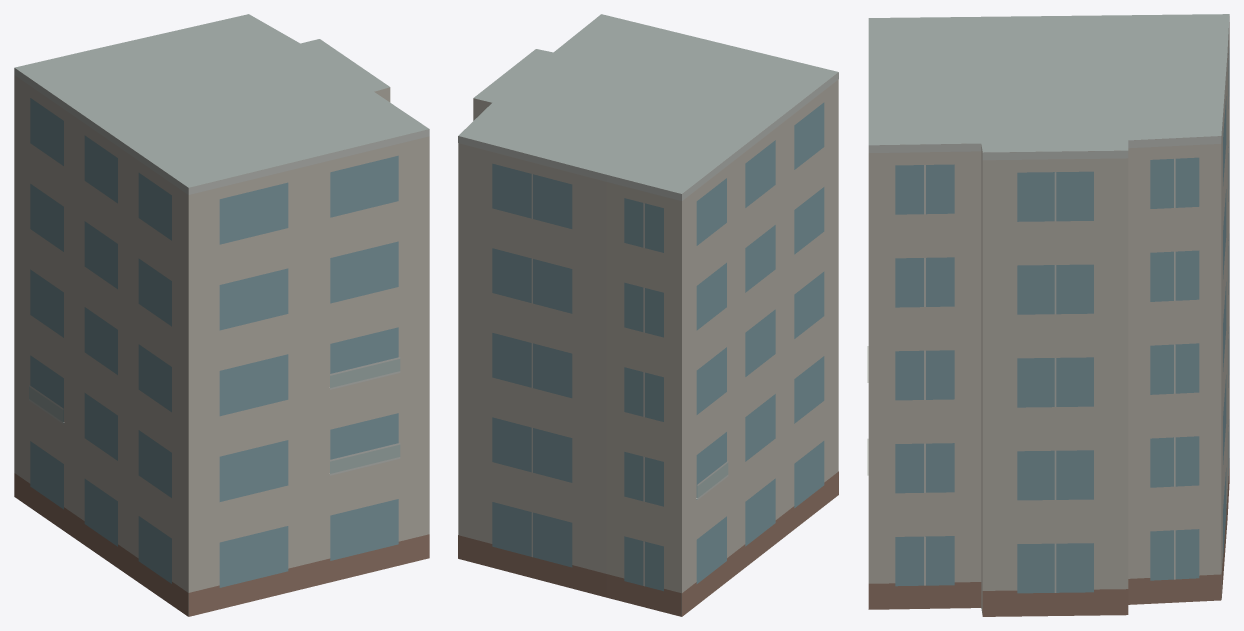
File: survey-upis-32681788.glb
3 renders of one model, left to right at view 1: azimuth 30°, elevation 25°; view 2: azimuth 150°, elevation 25°; view 3: azimuth 270°, elevation 25°, orthographic. The views are drawn at different scales.
Visible parts, largest first — view 1: survey-upis-32681788.tmp; view 2: survey-upis-32681788.tmp; view 3: survey-upis-32681788.tmp.
Part boxes in pixels (box(x1,y1,x2,y2)): survey-upis-32681788.tmp: box(14, 14, 429, 616); survey-upis-32681788.tmp: box(458, 14, 838, 616); survey-upis-32681788.tmp: box(867, 14, 1229, 616).
Bounding box in the file's own units: 9.23 × 14.41 × 10.2.
